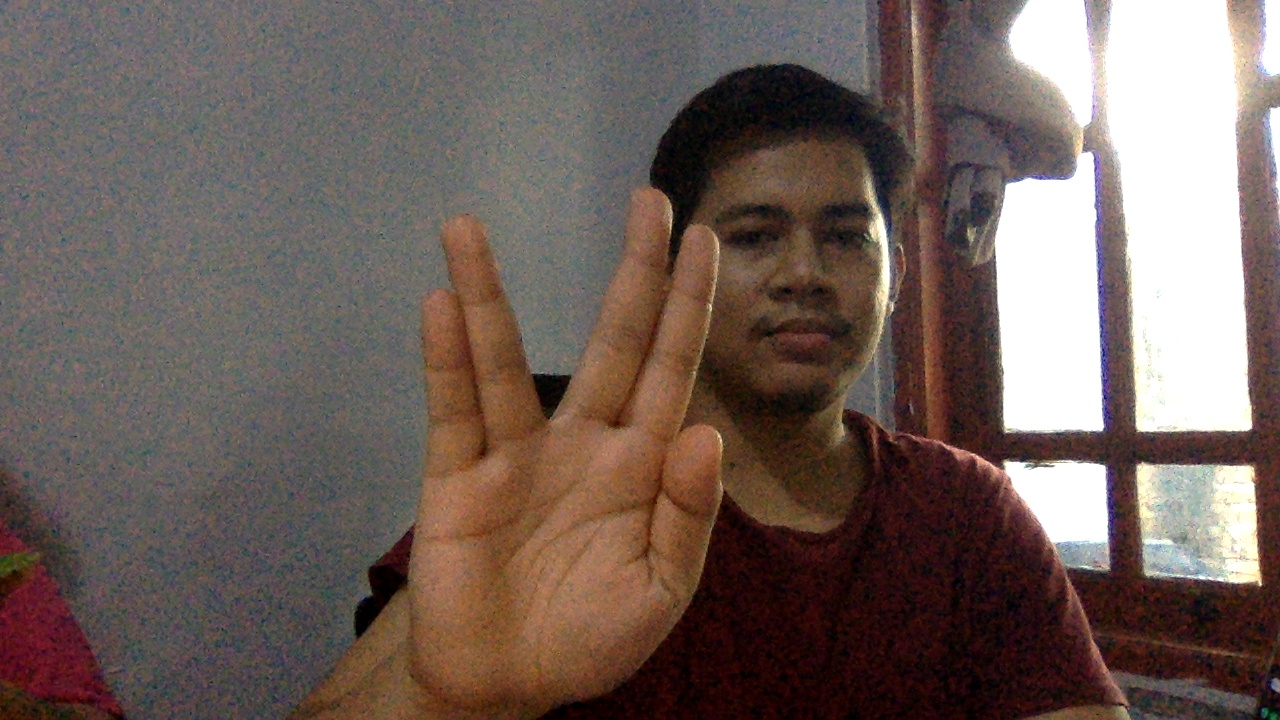livelong: (389, 172, 742, 698)
